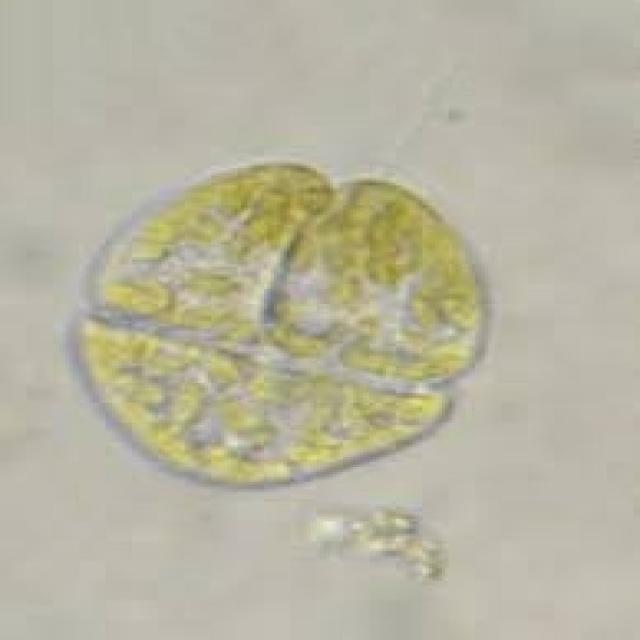Karenia: (53, 168, 510, 495)
